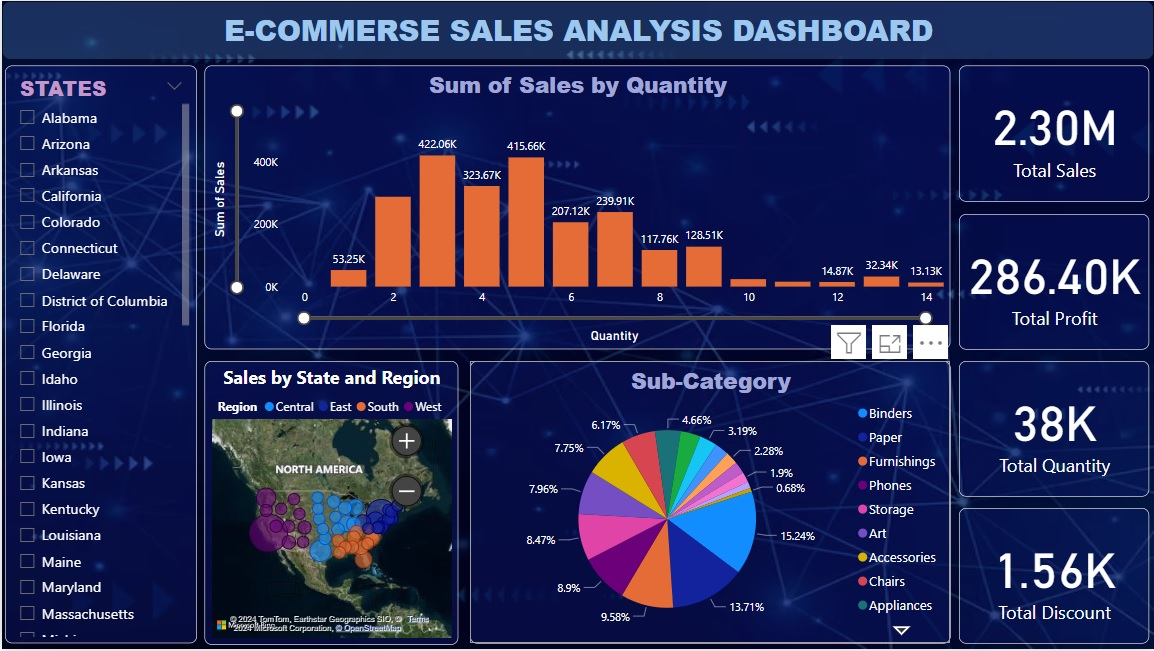

Layout of this report page (visuals, bound fields, positions):
{"tool":"powerbi","page":{"name":"Page 1","canvas":[1280,720],"ordinal":0},"visuals":[{"type":"textbox","box":[0,0,1280,65],"z":0},{"type":"card","fields":{"Values":["Sum(Data.Sales)"]},"box":[1063.9,72.4,211.4,151],"z":1000},{"type":"card","fields":{"Values":["Sum(Data.Profit)"]},"box":[1064,236,211.4,151],"z":2000},{"type":"card","fields":{"Values":["Sum(Data.Quantity)"]},"box":[1064,399.6,211.4,151],"z":3000},{"type":"card","fields":{"Values":["Sum(Data.Discount)"]},"box":[1064,563.1,211.4,151],"z":4000},{"type":"clusteredColumnChart","fields":{"Y":["Sum(Data.Sales)"],"Category":["Data.Quantity"]},"box":[225,71.7,828.3,315],"z":5000},{"type":"pieChart","title":"Sub-Category ","fields":{"Y":["CountNonNull(Data.Sub-Category)"],"Category":["Data.Sub-Category"]},"box":[520,400,534,314],"z":6000},{"type":"map","title":"Sales by State and Region","fields":{"Category":["Data.State"],"Size":["Sum(Data.Sales)"],"Series":["Data.Region"]},"box":[225,400,281.7,315],"z":7000},{"type":"slicer","fields":{"Values":["Data.State"]},"box":[3.3,71.7,213.3,641.7],"z":8000}]}

Visuals, with their boxes in screenshot pixels (x1, y1, x2, y2), scaled from the page's 1280x720 canvas onto the 1154x651 screenshot:
textbox: rect(0, 0, 1153, 59)
card - Sum(Data.Sales): rect(959, 65, 1150, 202)
card - Sum(Data.Profit): rect(959, 213, 1150, 350)
card - Sum(Data.Quantity): rect(959, 361, 1150, 498)
card - Sum(Data.Discount): rect(959, 509, 1150, 646)
clusteredColumnChart - Sum(Data.Sales) x Data.Quantity: rect(203, 65, 950, 350)
"Sub-Category " pieChart: rect(469, 362, 950, 646)
"Sales by State and Region" map: rect(203, 362, 457, 646)
slicer - Data.State: rect(3, 65, 195, 645)
